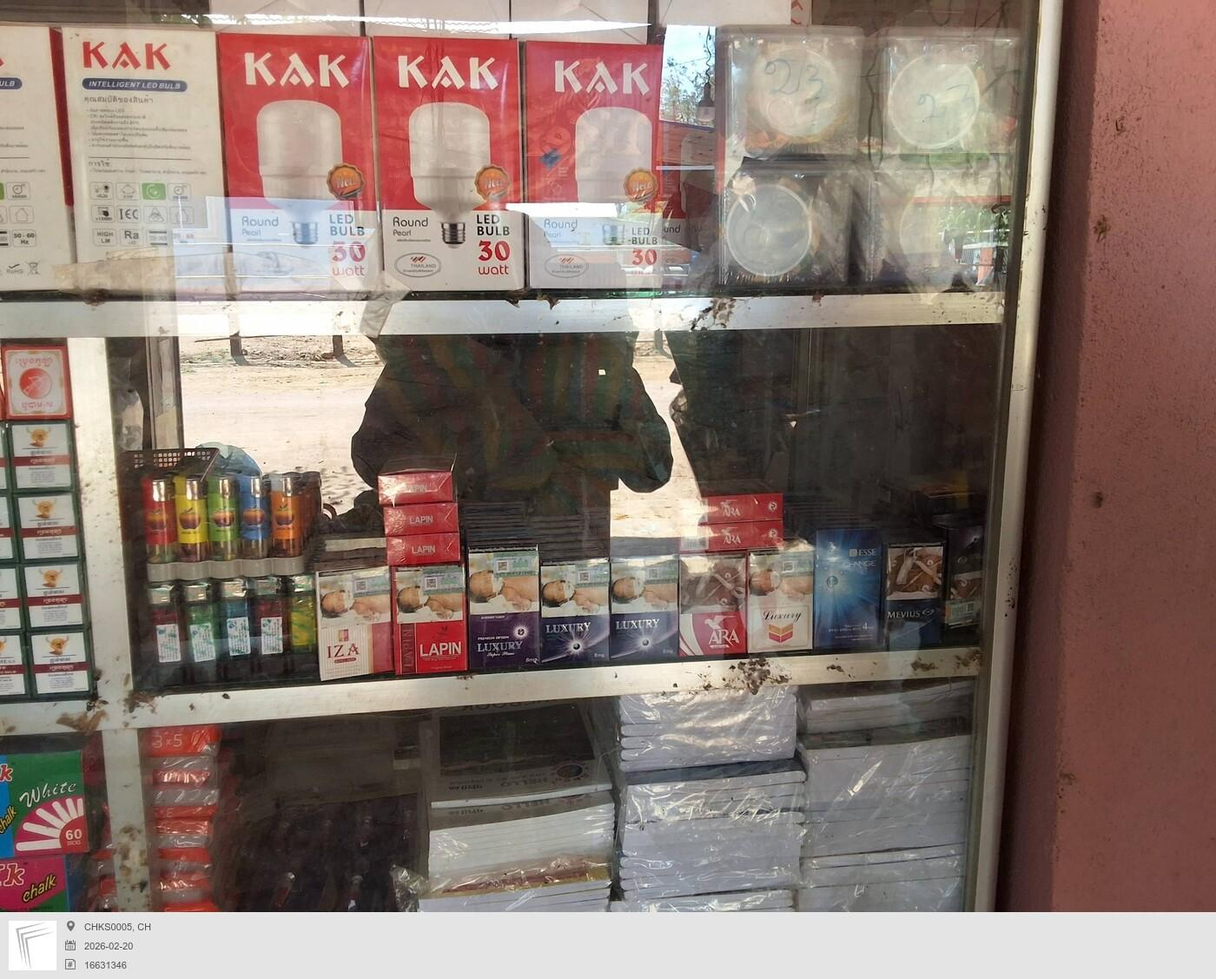cigarette_pack: (319, 529, 389, 682), (469, 533, 538, 673), (813, 524, 882, 649), (392, 563, 464, 680), (538, 556, 610, 667), (606, 556, 680, 664), (680, 557, 752, 662), (882, 542, 948, 645), (750, 554, 817, 654), (945, 522, 995, 642), (678, 522, 783, 554), (382, 464, 459, 506), (679, 490, 780, 522), (379, 502, 462, 533), (390, 535, 459, 566)
